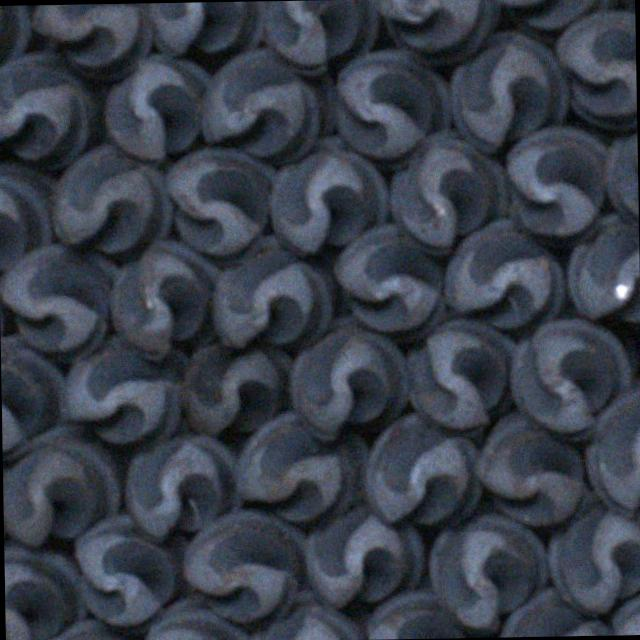tool_b: (233, 409, 368, 522), (286, 316, 408, 437), (449, 30, 571, 150), (428, 512, 548, 634), (390, 132, 510, 254), (178, 508, 306, 622), (508, 316, 632, 432), (59, 334, 186, 446), (267, 138, 389, 254), (328, 47, 450, 162), (50, 144, 175, 255), (364, 413, 482, 530), (107, 238, 222, 358), (2, 427, 121, 542), (200, 45, 320, 158), (210, 235, 332, 346), (0, 243, 119, 356), (442, 220, 564, 330), (474, 414, 587, 528), (404, 316, 518, 428), (302, 506, 424, 610), (330, 224, 442, 336), (126, 436, 245, 540), (160, 148, 274, 256), (502, 128, 610, 240), (104, 53, 216, 160), (74, 514, 180, 626), (546, 494, 640, 612), (176, 344, 292, 436), (0, 49, 91, 163), (554, 10, 636, 132), (27, 3, 151, 77), (260, 0, 379, 70), (567, 214, 640, 326), (366, 0, 497, 61), (1, 332, 64, 457), (3, 542, 83, 640), (585, 379, 640, 511), (144, 1, 263, 57), (494, 587, 618, 637), (242, 590, 364, 640), (0, 162, 54, 270), (362, 590, 478, 639), (135, 594, 251, 640), (482, 0, 612, 35), (604, 109, 638, 234), (29, 619, 135, 640), (0, 5, 28, 73)
